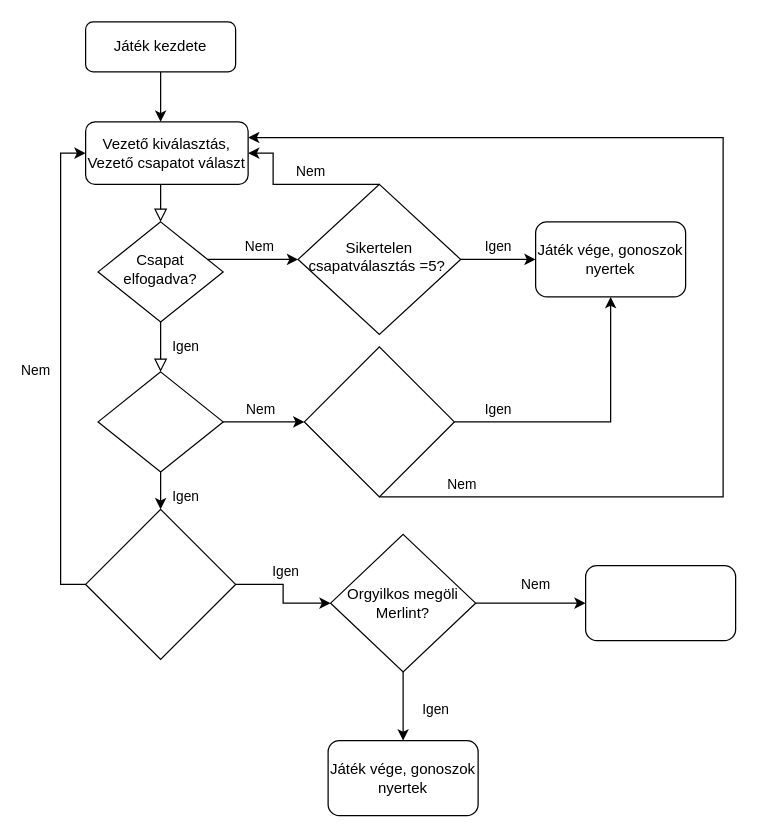
The diagram is 758 pixels wide and 838 high, and some of its shapes have lost their labels. Here are the shapes that lost their labels. From the top down, the box of each, then its label:
(97, 371, 223, 472): Sikeres küldetés?
(303, 346, 454, 497): Sikertelen küldetések = 3?
(84, 508, 236, 659): Sikeres küldetések = 3?
(584, 564, 736, 641): Játék vége, jók nyertek
